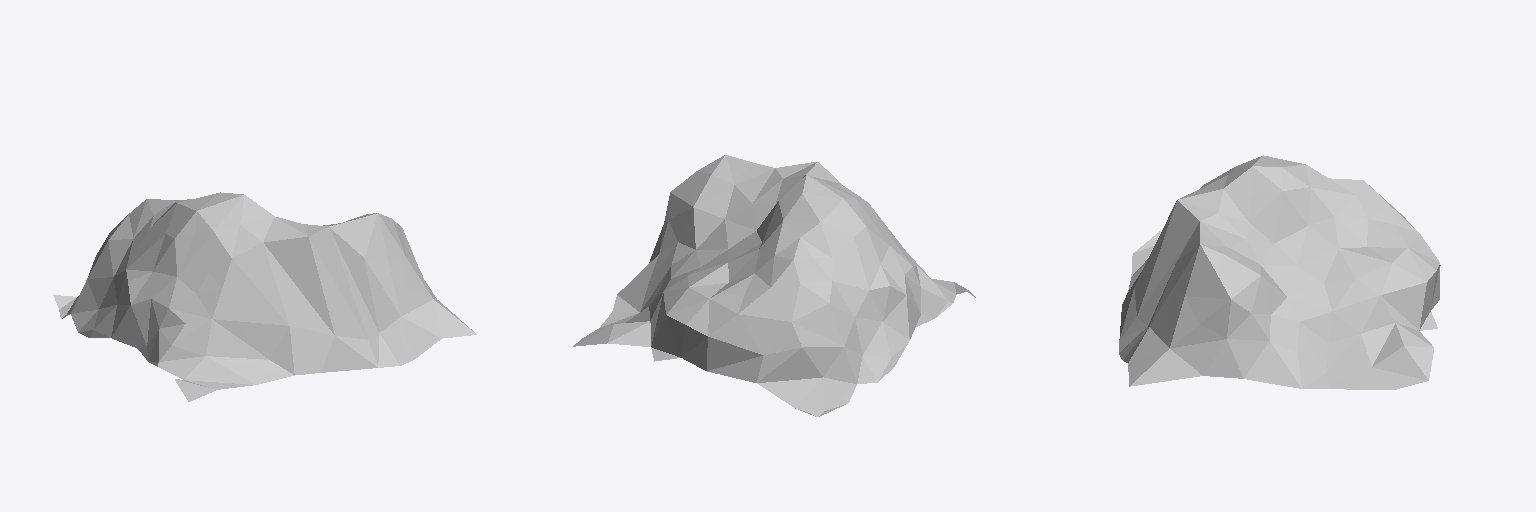
The model's file is island (1).obj.
The picture shows the model from 3 angles: view 1: azimuth 30°, elevation 25°; view 2: azimuth 150°, elevation 25°; view 3: azimuth 270°, elevation 25°; orthographic projection.
Visible parts, largest first — view 1: Island_Plane; view 2: Island_Plane; view 3: Island_Plane.
Boxes of the visible parts, x1=… form: Island_Plane: x1=53, y1=192, x2=476, y2=401; Island_Plane: x1=573, y1=155, x2=975, y2=416; Island_Plane: x1=1119, y1=155, x2=1440, y2=389.
Bounding box in the file's own units: 40.39 × 20.48 × 38.58.